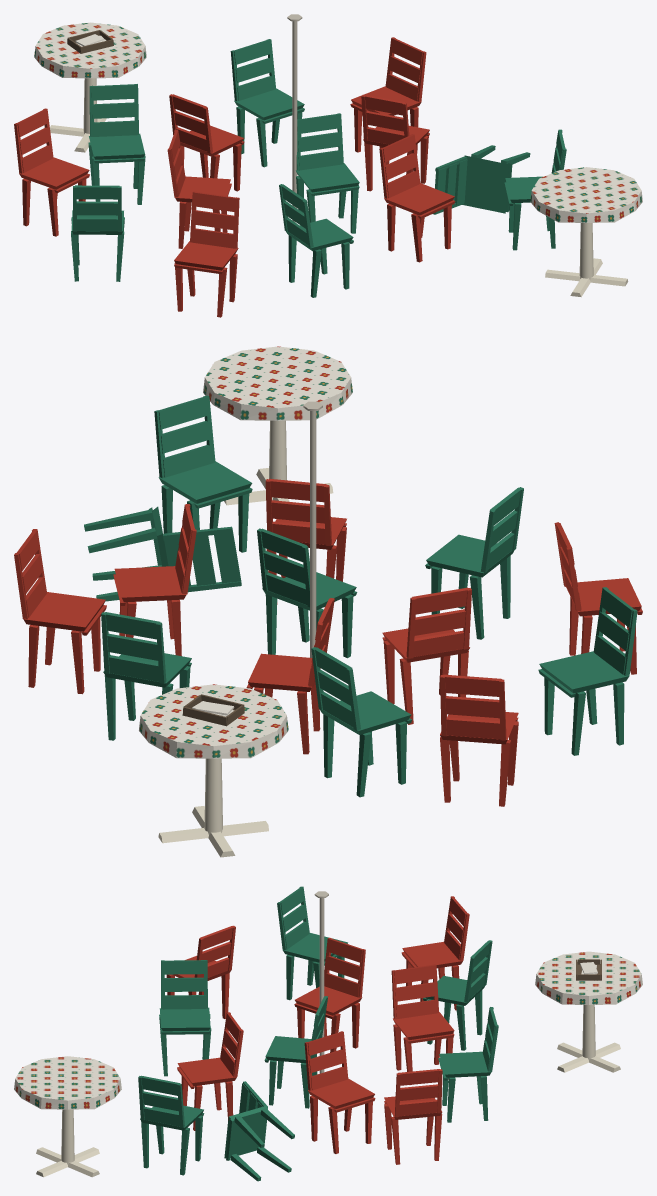
Rendered from BoTri_Dem1.glb.
3 views of the same model, one above another, from view 1: azimuth 30°, elevation 25°; view 2: azimuth 150°, elevation 25°; view 3: azimuth 270°, elevation 25° (orthographic). The views are drawn at different scales.
Parts seen in each view (by area): view 1: backrest (×13), seat (×12), cover (×2), column (×2), pole; view 2: backrest (×12), seat (×12), cover (×2), column (×2), pole; view 3: backrest (×12), seat (×13), cover (×2), column (×2), pole.
Part boxes in pixels (x1,y1,x2,y2): backrest (×13): [16, 38, 467, 248]; seat (×12): [19, 86, 542, 270]; cover (×2): [34, 22, 642, 222]; column (×2): [83, 78, 593, 280]; pole: [292, 21, 297, 222]; backrest (×12): [16, 397, 634, 739]; seat (×12): [23, 461, 641, 744]; cover (×2): [139, 346, 352, 758]; column (×2): [204, 420, 286, 834]; pole: [310, 411, 316, 657]; backrest (×12): [141, 887, 497, 1126]; seat (×13): [140, 933, 491, 1158]; cover (×2): [14, 951, 642, 1109]; column (×2): [61, 1005, 595, 1164]; pole: [319, 898, 324, 1073].
Size of the model in its own units: 3.74 by 1.66 by 4.83.
Materials: 7 (1 with a texture image).
